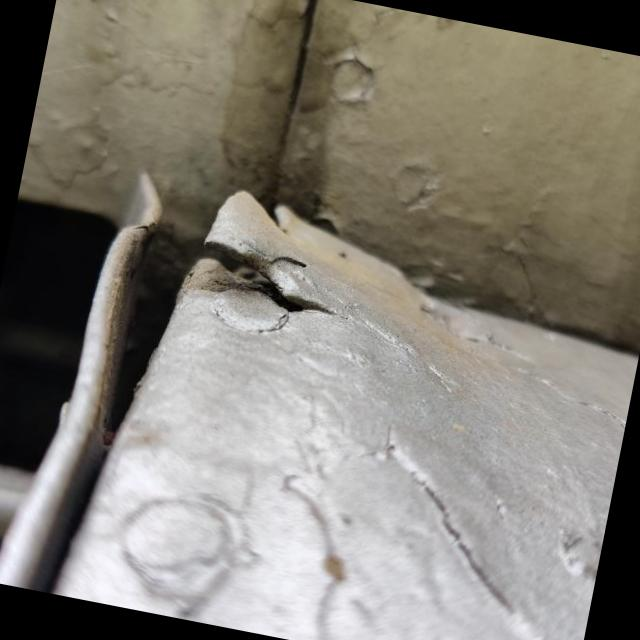Crack: (186, 207, 336, 331)
